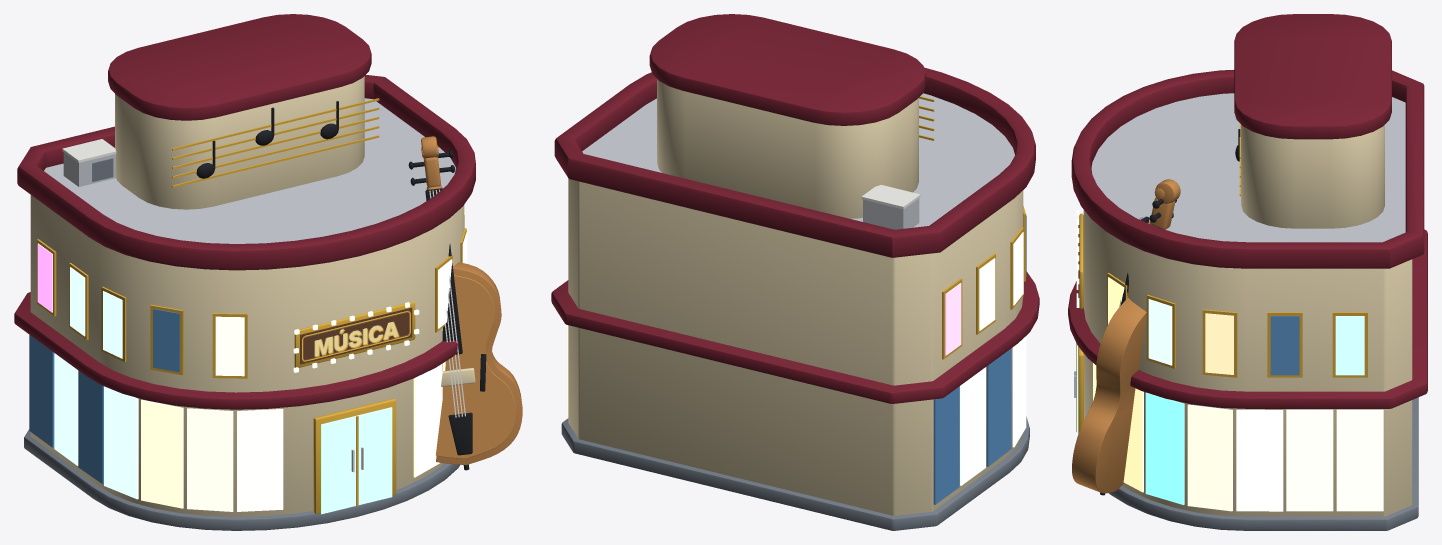
Rendered from salao_musica_violino.glb.
The picture shows the model from 3 angles, left to right: view 1: azimuth 30°, elevation 25°; view 2: azimuth 150°, elevation 25°; view 3: azimuth 270°, elevation 25°; orthographic projection. The views are drawn at different scales.
Parts seen in each view (by area): view 1: salao_musica_violino; view 2: salao_musica_violino; view 3: salao_musica_violino.
Boxes of the visible parts, box(x1,y1,x2,y2) form: salao_musica_violino: box(14, 14, 522, 530); salao_musica_violino: box(551, 14, 1039, 530); salao_musica_violino: box(1068, 14, 1427, 530).
Bounding box in the file's own units: 12.7 × 12.05 × 10.5.
Materials: 10 (2 with a texture image).
